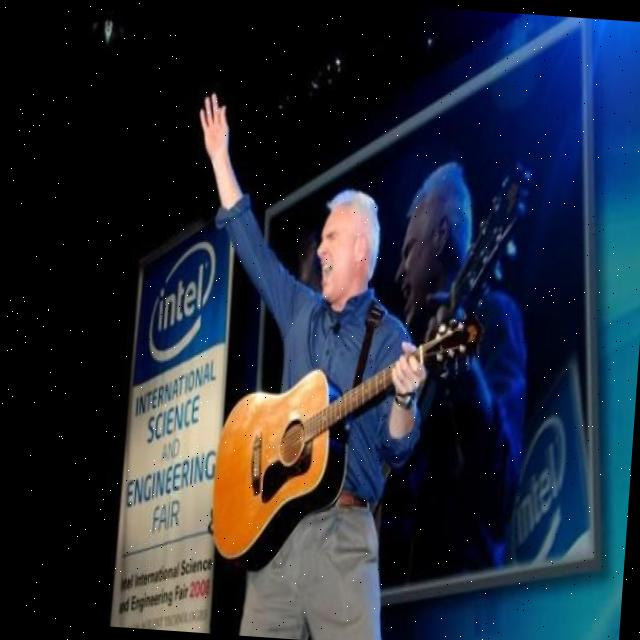guitar: (208, 294, 487, 572)
